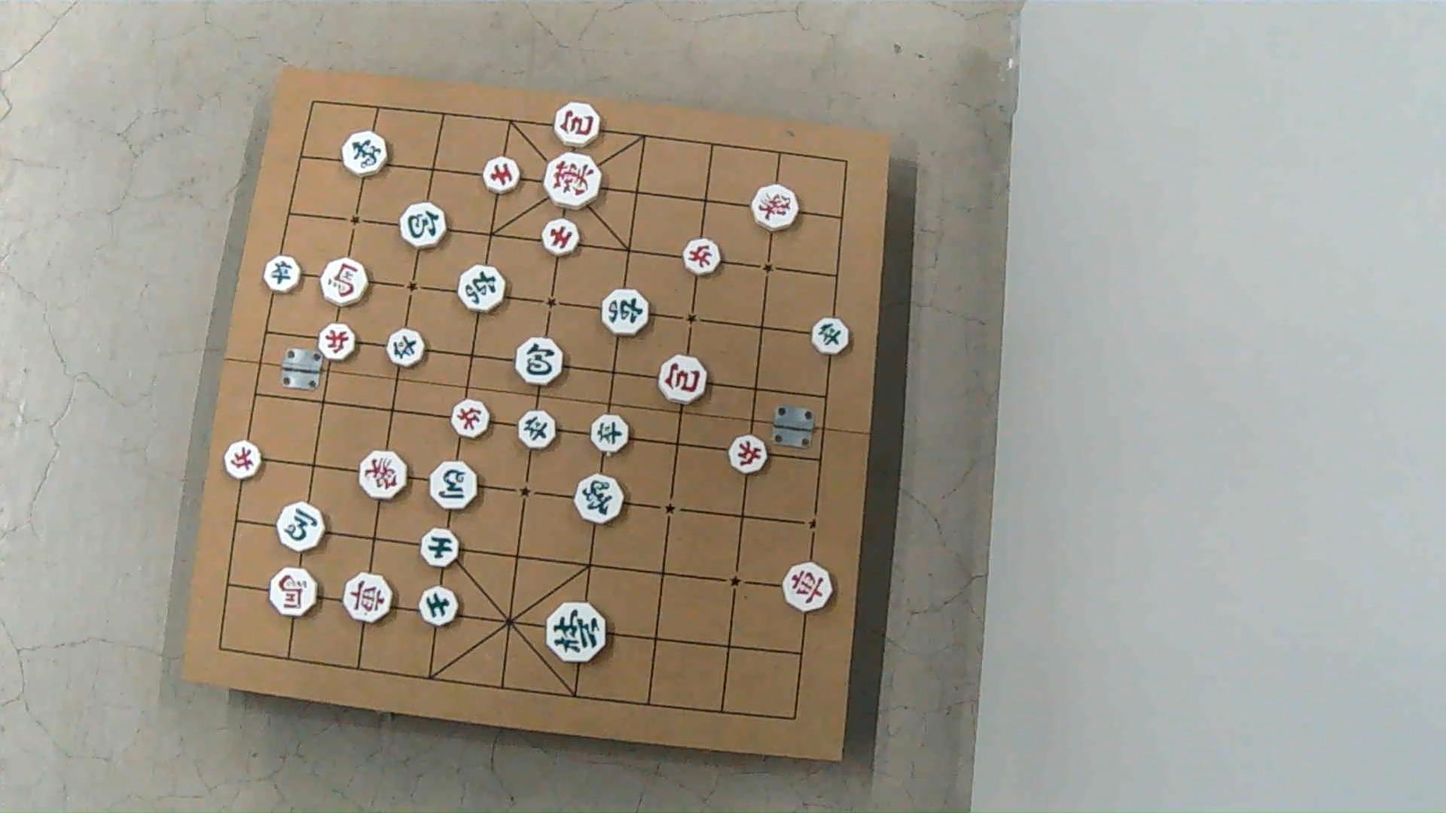cha_green: (603, 290, 651, 337), (458, 265, 505, 312)
cha_red: (782, 562, 831, 611), (343, 572, 392, 621)
jol_green: (520, 410, 558, 449), (593, 416, 630, 454), (811, 318, 848, 355), (388, 330, 425, 367), (263, 256, 298, 294)
jol_red: (453, 400, 492, 439), (224, 440, 261, 479), (680, 239, 718, 276), (729, 436, 767, 473), (319, 323, 356, 360)
ma_green: (430, 461, 477, 510), (276, 504, 323, 552)
ma_red: (272, 569, 319, 618), (319, 259, 366, 306)
po_green: (515, 336, 563, 384), (398, 202, 447, 247)
po_red: (657, 357, 705, 404), (554, 104, 599, 148)
sa_green: (418, 588, 456, 627), (422, 528, 459, 567)
sa_red: (542, 220, 581, 257), (484, 157, 521, 195)
sang_green: (575, 473, 624, 522), (343, 130, 388, 175)
sang_red: (360, 452, 407, 501), (754, 184, 801, 231)
wang_green: (545, 602, 606, 663)
wang_red: (546, 152, 603, 209)
